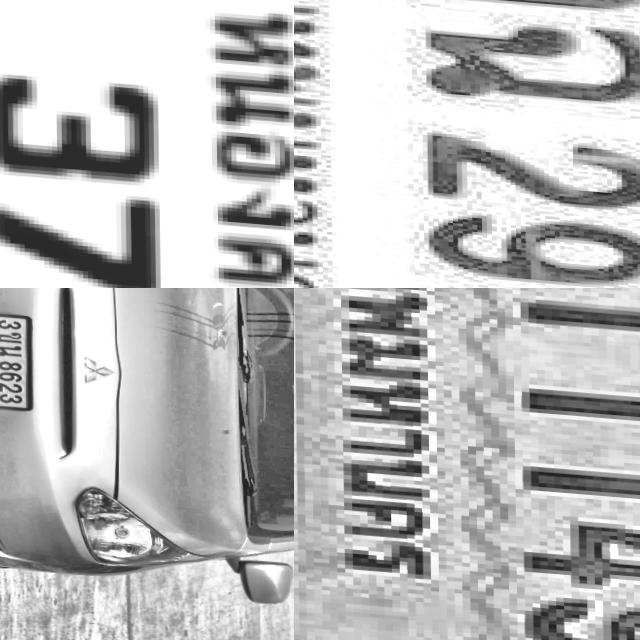license-plate: (294, 288, 640, 640), (294, 0, 640, 288), (0, 0, 294, 288), (0, 307, 32, 407)
